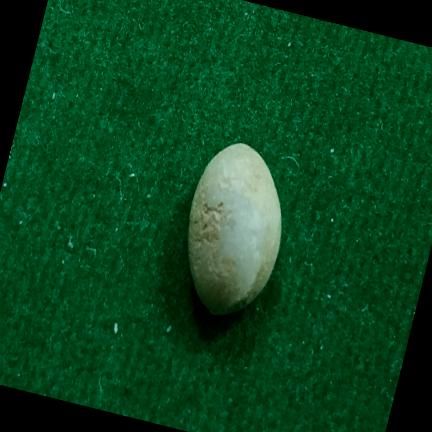cut: (187, 143, 281, 314)
